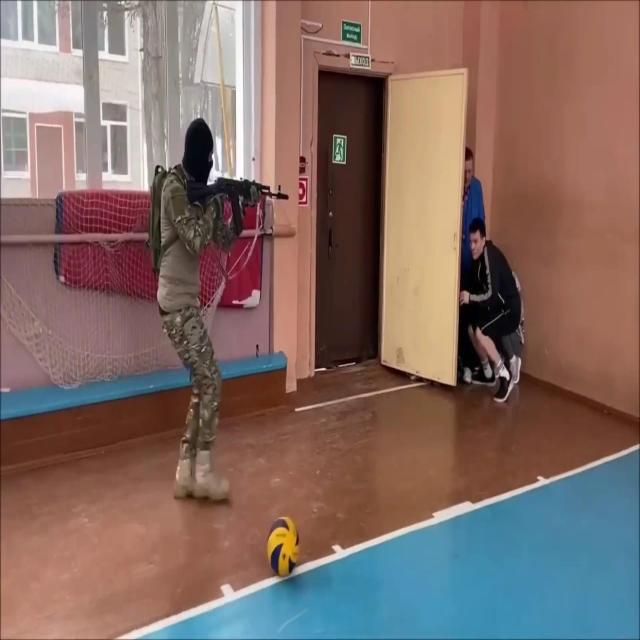pistol: (184, 172, 290, 240)
